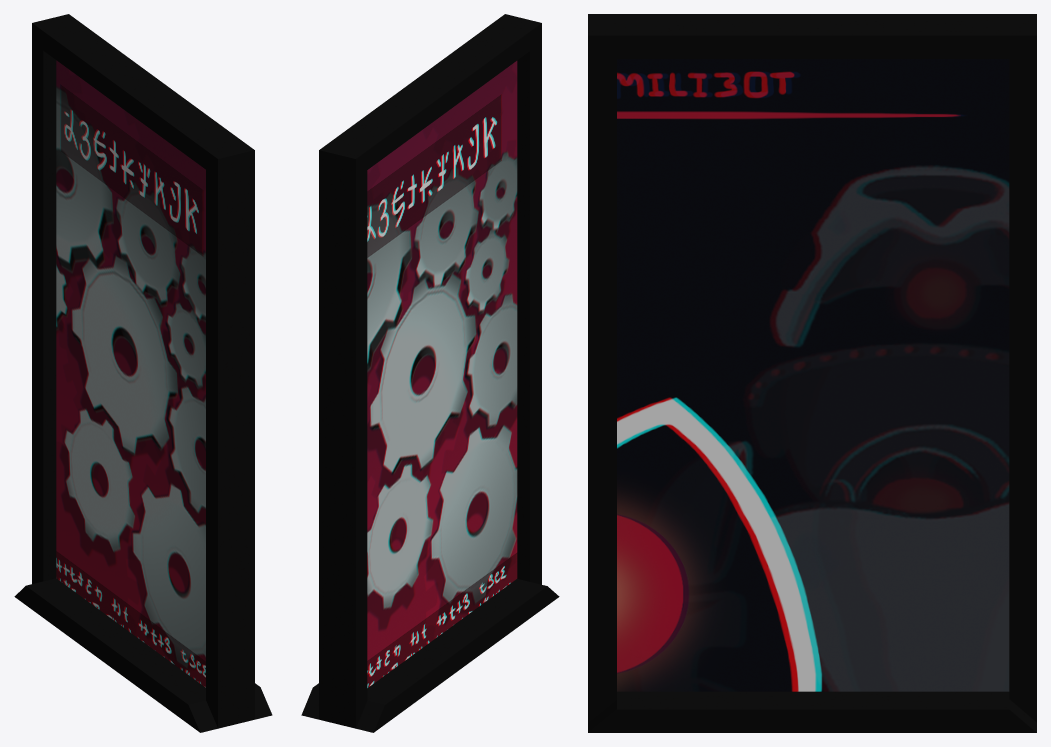
The model's file is Advert02_B.fbx.
The picture shows the model from 3 angles, left to right: view 1: azimuth 30°, elevation 25°; view 2: azimuth 150°, elevation 25°; view 3: azimuth 270°, elevation 25°; orthographic projection. The views are drawn at different scales.
Visible parts, largest first — view 1: Advert02_B; view 2: Advert02_B; view 3: Advert02_B.
Part boxes in pixels (x1=…): Advert02_B: x1=14, y1=14, x2=272, y2=732; Advert02_B: x1=301, y1=14, x2=559, y2=732; Advert02_B: x1=588, y1=14, x2=1036, y2=732.
Bounding box in the file's own units: 0.5287 × 3.99 × 2.36.
1 material, 1 textured.
